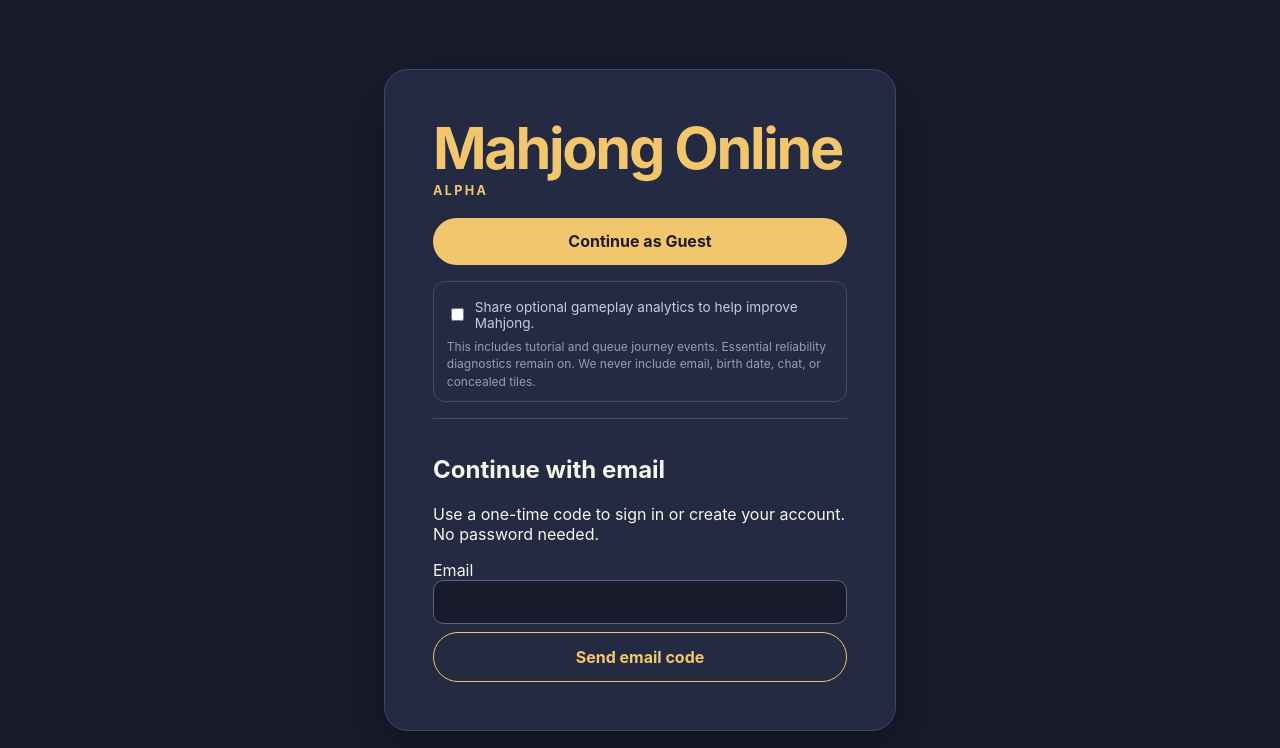
it: App social feature access › shows verified rotation progress in the default Journey tab
Click the button "Continue as Guest". click: (640, 241)
box: x1=433 y1=218 x2=847 y2=265
(page scrolled)
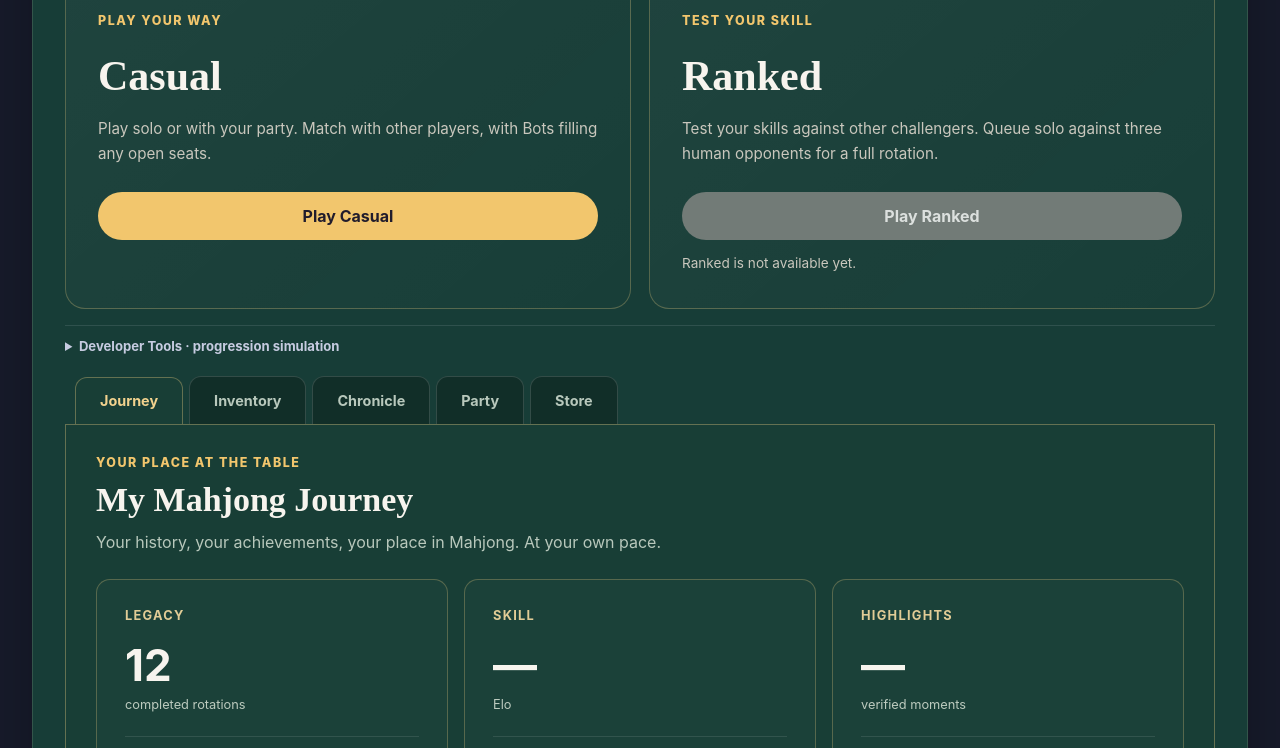
Expected: the text "Play Casual" is shown, x1=98 y1=192 x2=598 y2=240
Expected: the text "12 completed rotations" is shown, x1=125 y1=638 x2=246 y2=712
Expected: the tab with id "menu-tab-journey" reads "Journey", x1=75 y1=377 x2=183 y2=425
Click the tab with id "menu-tab-social". click: (480, 400)
box: x1=436 y1=376 x2=524 y2=424
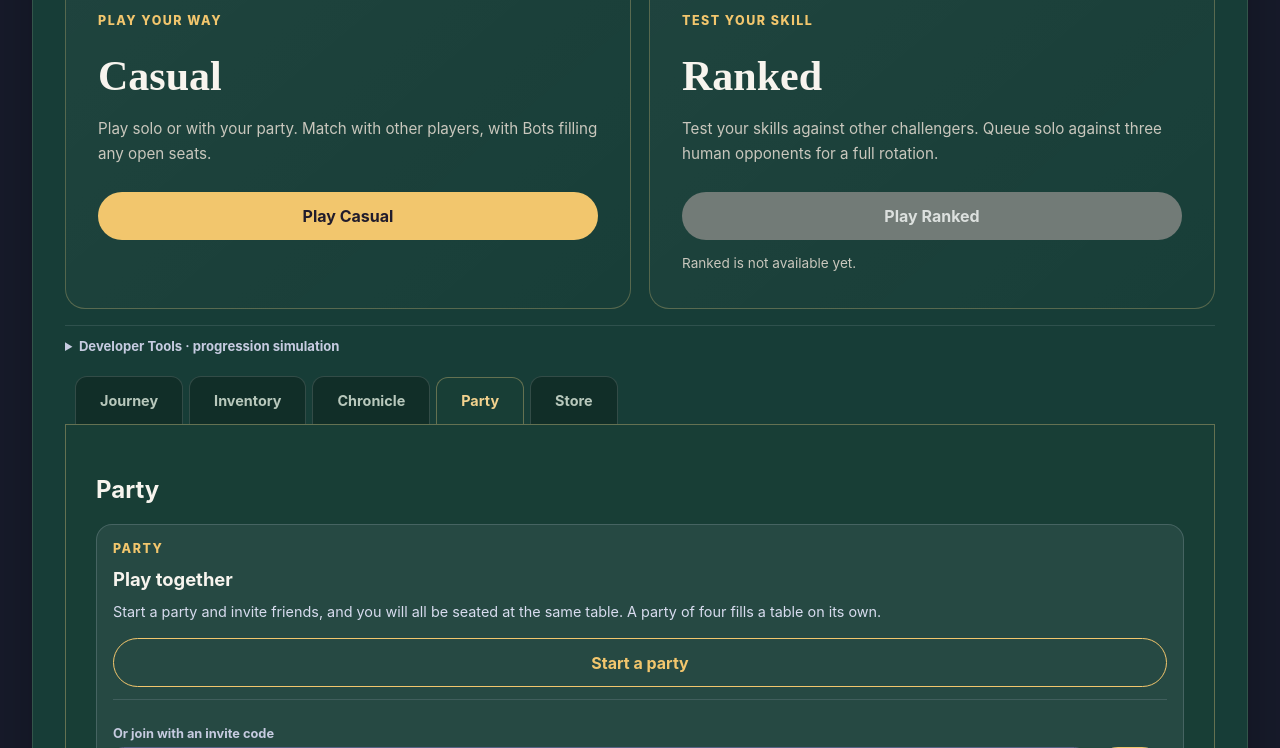
Click the tab with id "menu-tab-journey". click: (129, 400)
box: x1=75 y1=376 x2=183 y2=424
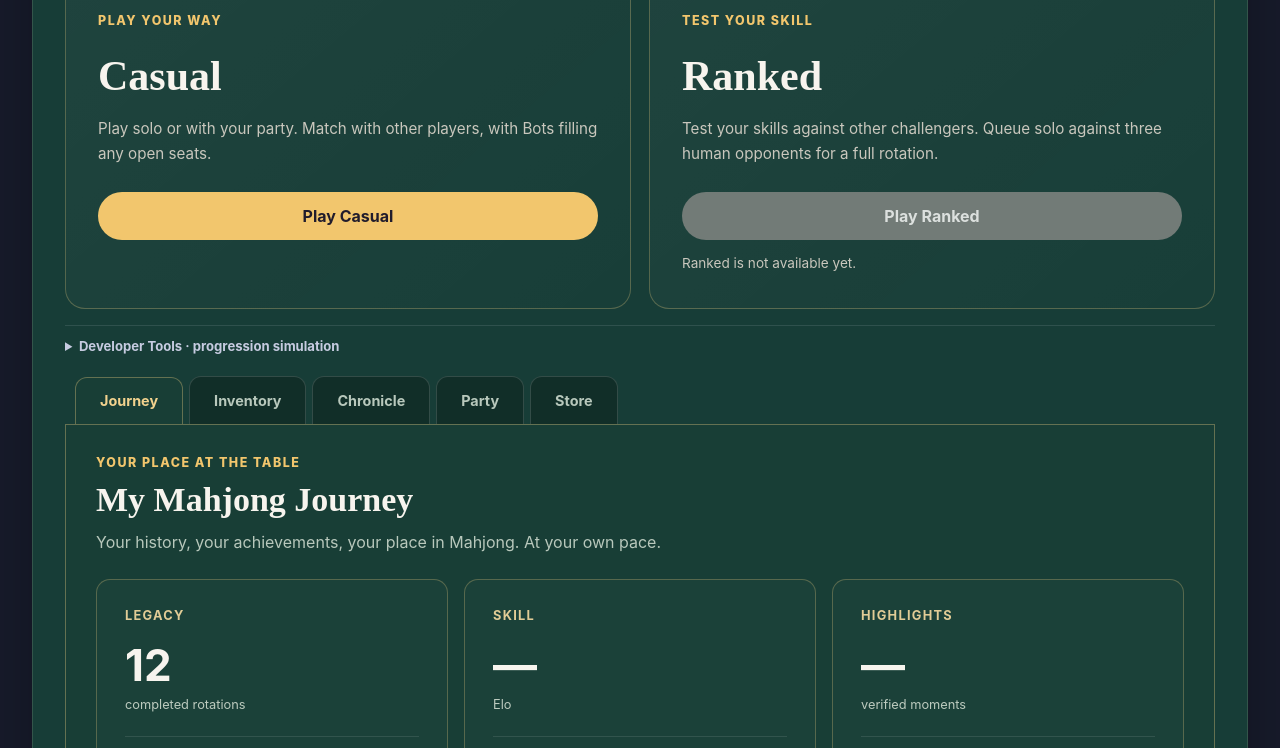
Click the tab with id "menu-tab-chronicle". click: (371, 400)
box: x1=312 y1=376 x2=430 y2=424
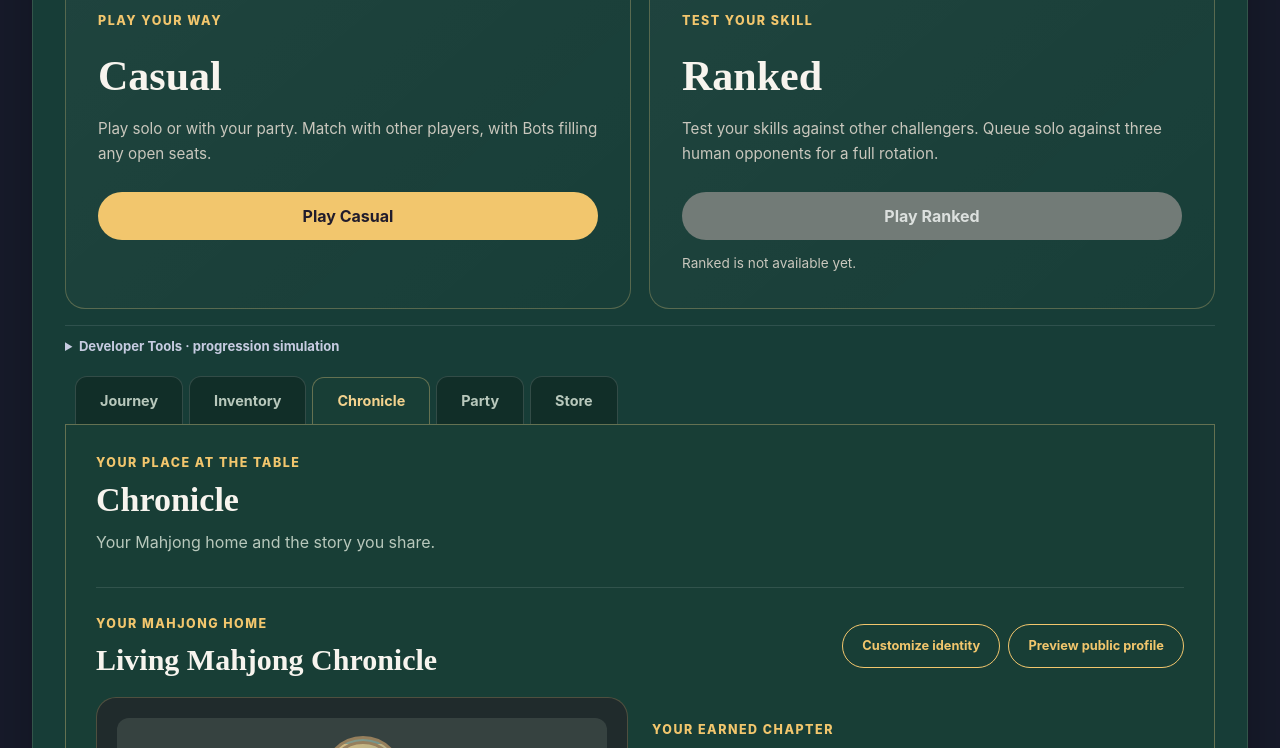
Click the button "Customize identity". click: (921, 646)
box: x1=842 y1=624 x2=1000 y2=668
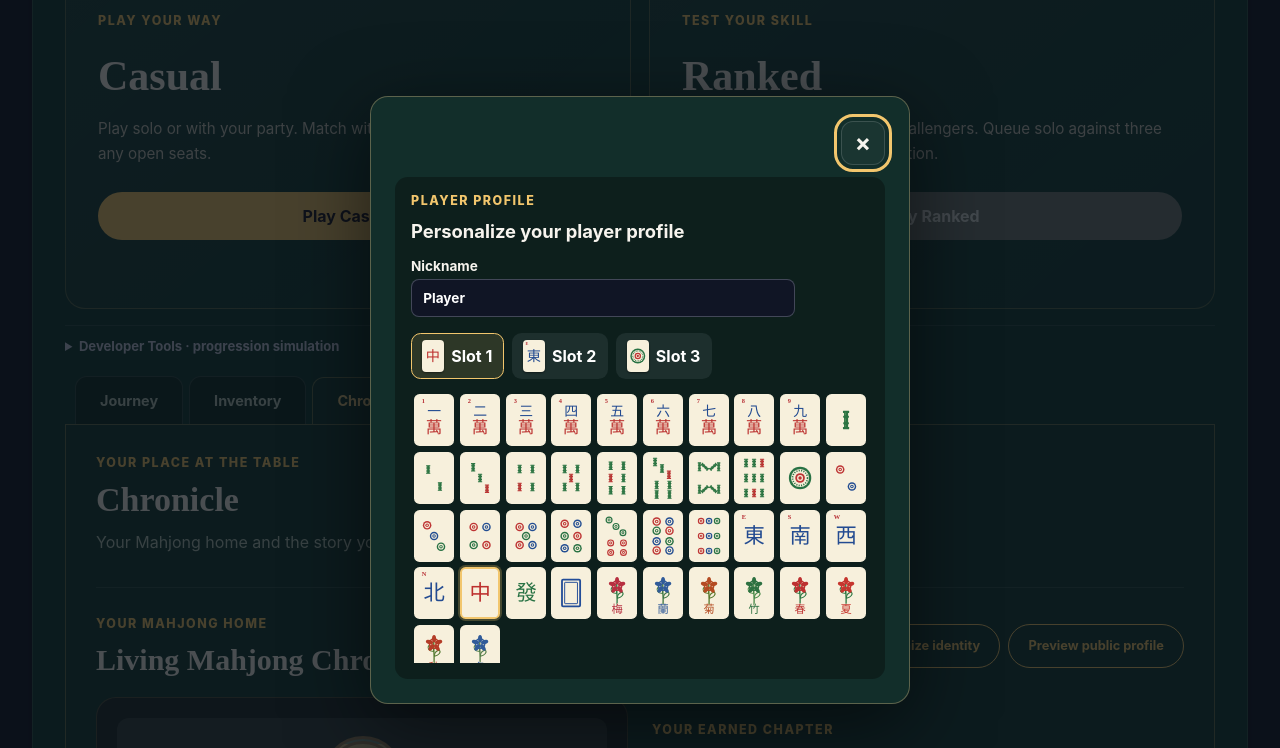
Expected: the dialog with class "menu-profile-dialog" shows "Personalize your player profile", x1=411 y1=220 x2=684 y2=242
